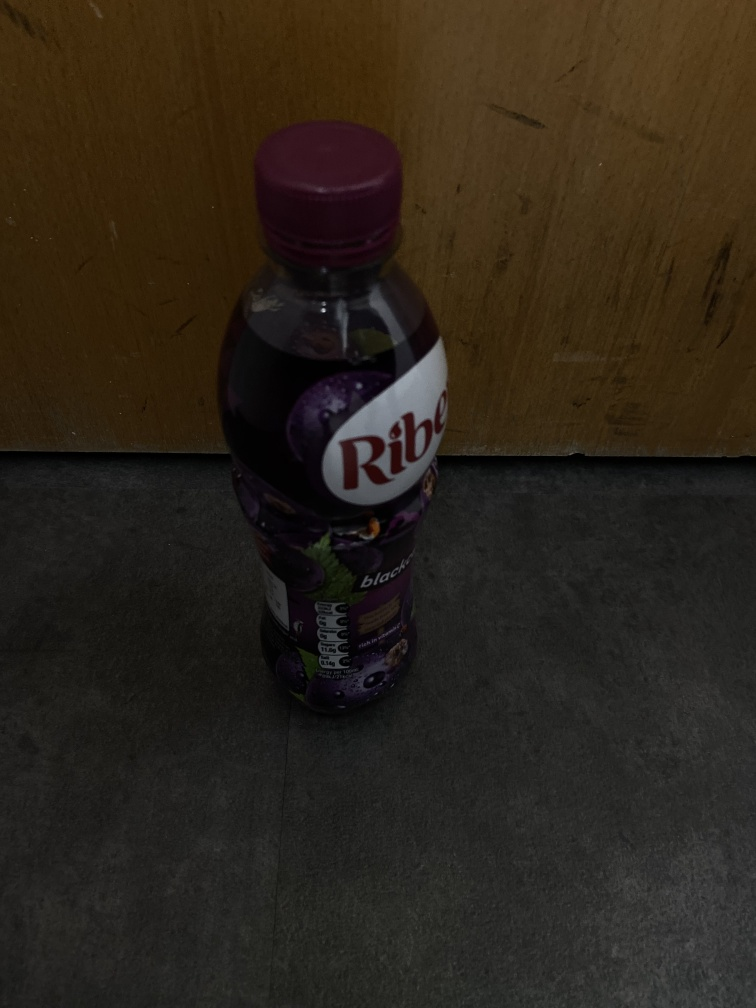bottle_purple: (212, 116, 454, 718)
